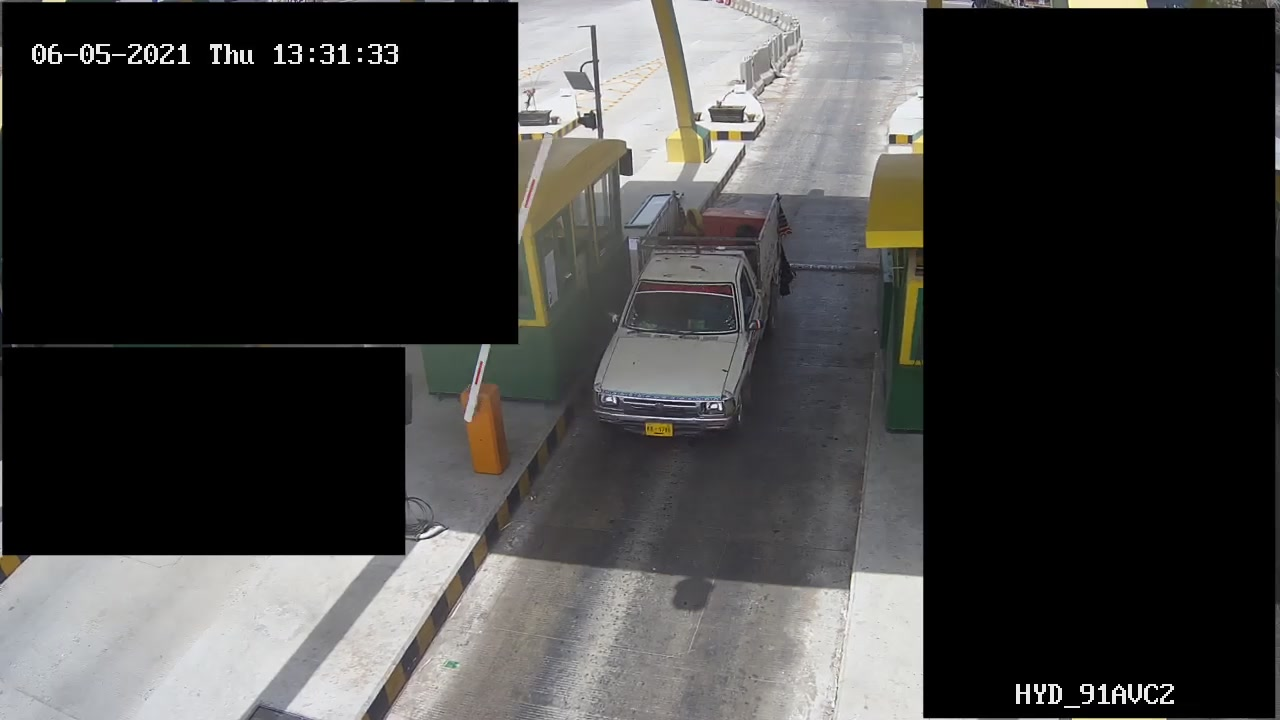F1: (588, 189, 804, 443)
